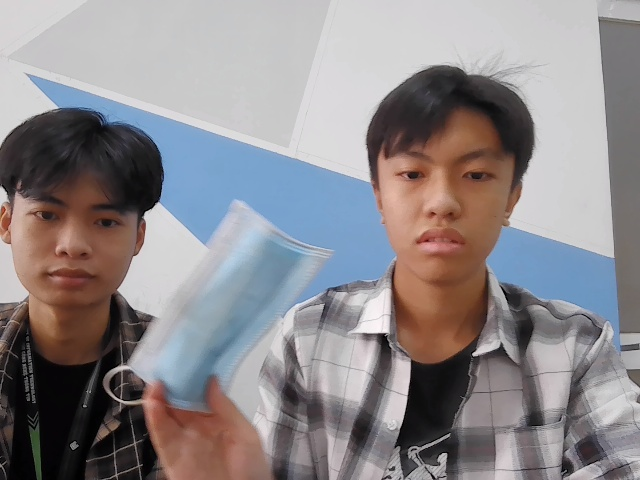human: (362, 61, 540, 291), (1, 108, 167, 314)
mask: (127, 196, 342, 413)
